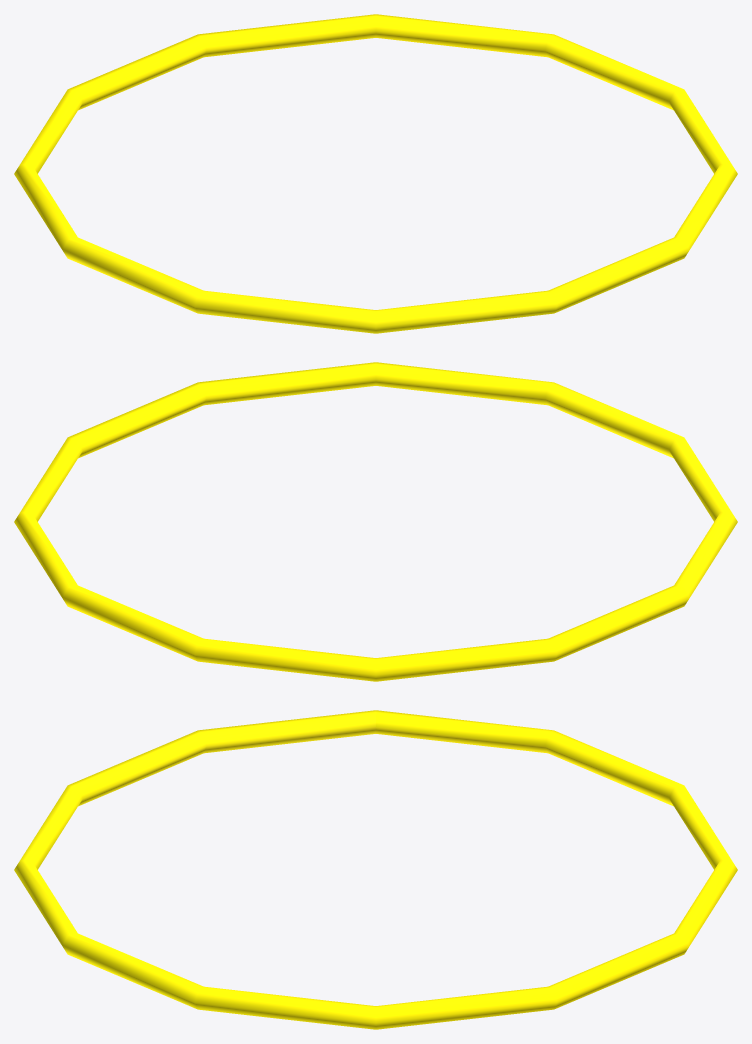
The model's file is HulaHoopYellow.glb.
3 renders of one model, top to bottom at view 1: azimuth 30°, elevation 25°; view 2: azimuth 150°, elevation 25°; view 3: azimuth 270°, elevation 25°, orthographic.
Visible parts, largest first — view 1: HulaHoopYellow; view 2: HulaHoopYellow; view 3: HulaHoopYellow.
Part boxes in pixels (bbox=[...]): HulaHoopYellow: bbox=[14, 14, 737, 333]; HulaHoopYellow: bbox=[14, 362, 737, 681]; HulaHoopYellow: bbox=[14, 710, 737, 1029].
Size of the model in its own units: 1.04 by 0.0296 by 1.04.
Materials: 1 (1 with a texture image).
